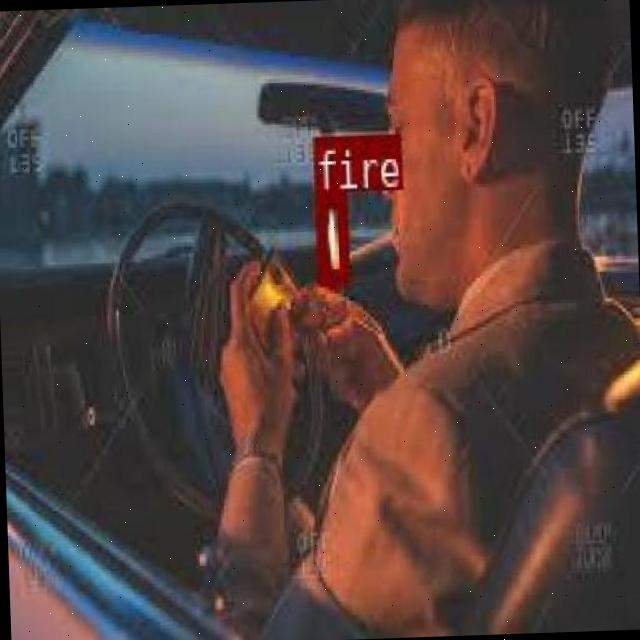fire: (313, 190, 347, 282)
